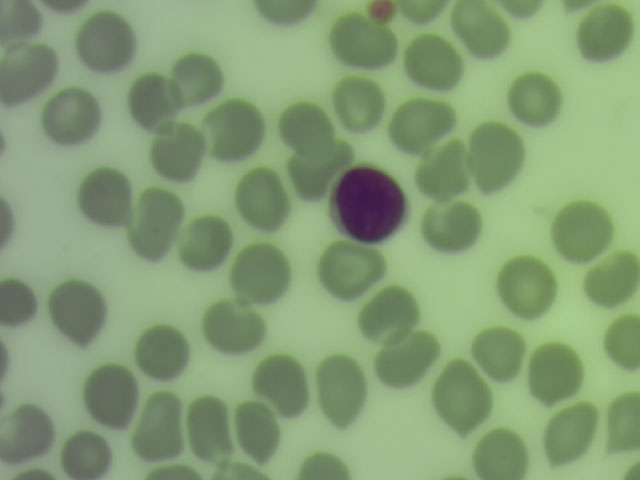Platelets: (327, 161, 414, 247), (367, 2, 396, 26)
RBC: (184, 389, 238, 469), (315, 76, 393, 130), (131, 391, 184, 461), (78, 13, 136, 74), (434, 365, 492, 426), (1, 400, 52, 467), (506, 71, 562, 128), (471, 325, 526, 382), (405, 36, 460, 93), (288, 145, 343, 202), (280, 97, 335, 154), (234, 172, 289, 229), (315, 356, 370, 413), (253, 353, 308, 410), (234, 404, 289, 461), (231, 244, 286, 301), (202, 300, 257, 357), (135, 325, 190, 382), (82, 368, 137, 425), (50, 283, 105, 340), (181, 214, 236, 271), (129, 193, 184, 250), (78, 167, 133, 224), (209, 101, 264, 158), (149, 124, 204, 181), (170, 49, 225, 106), (125, 74, 180, 131), (45, 89, 100, 146), (499, 259, 554, 316), (530, 345, 585, 402), (378, 333, 433, 390), (543, 405, 598, 462), (585, 252, 640, 309), (555, 202, 610, 259), (361, 285, 416, 342), (320, 239, 375, 296), (423, 197, 478, 254), (466, 127, 521, 184), (413, 143, 468, 200), (391, 97, 446, 154), (577, 4, 632, 61), (470, 429, 531, 480), (457, 1, 512, 57), (1, 44, 54, 101), (56, 428, 114, 480), (603, 390, 640, 463), (333, 19, 388, 68), (600, 313, 640, 377), (1, 273, 40, 332), (1, 1, 45, 53), (253, 1, 319, 35), (297, 451, 354, 480), (400, 1, 449, 30)
